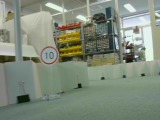speed_10: (38, 45, 59, 67)
